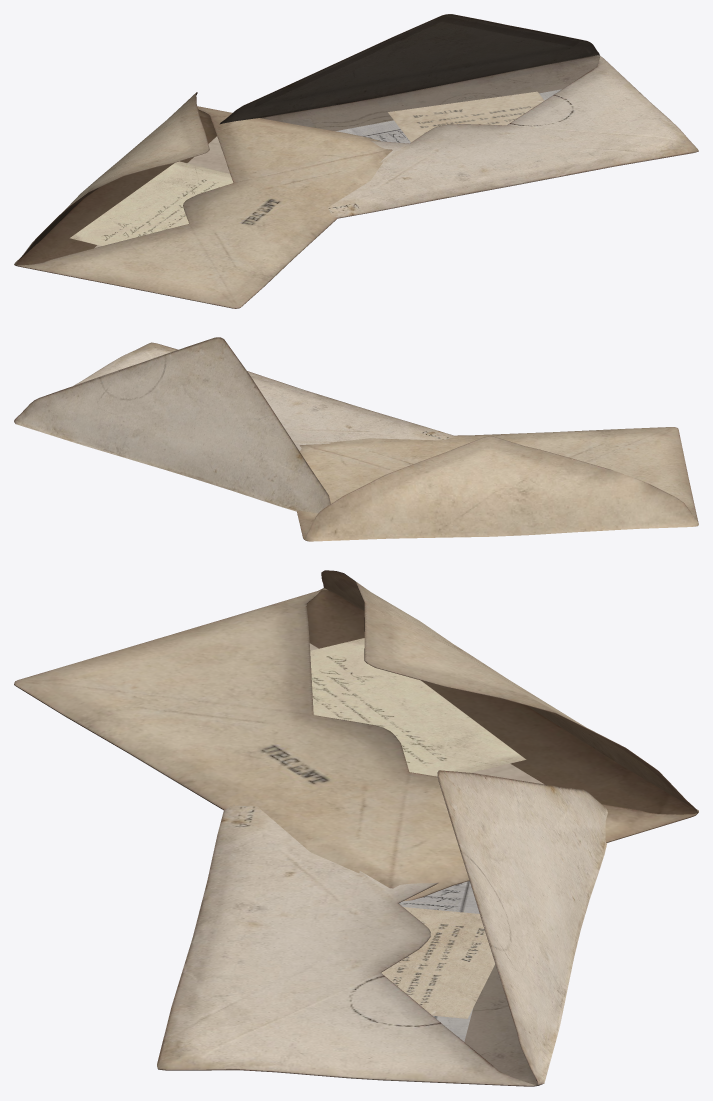
Rendered from PaperLetter(double ones)1.fbx.
The picture shows the model from 3 angles, top to bottom: view 1: azimuth 30°, elevation 25°; view 2: azimuth 150°, elevation 25°; view 3: azimuth 270°, elevation 25°; orthographic projection. The views are drawn at different scales.
Visible parts, largest first — view 1: Opened Envelope A, Opened Envelope B; view 2: Opened Envelope B, Opened Envelope A; view 3: Opened Envelope B, Opened Envelope A.
Part boxes in pixels (left/top/right/bottom): Opened Envelope A: left=219, top=14, right=698, bottom=218; Opened Envelope B: left=14, top=92, right=392, bottom=308; Opened Envelope B: left=296, top=427, right=698, bottom=541; Opened Envelope A: left=14, top=337, right=455, bottom=513; Opened Envelope B: left=14, top=570, right=698, bottom=901; Opened Envelope A: left=157, top=770, right=607, bottom=1086.
Size of the model in its own units: 30.22 by 5.08 by 17.6.
Materials: 1 (1 with a texture image).
